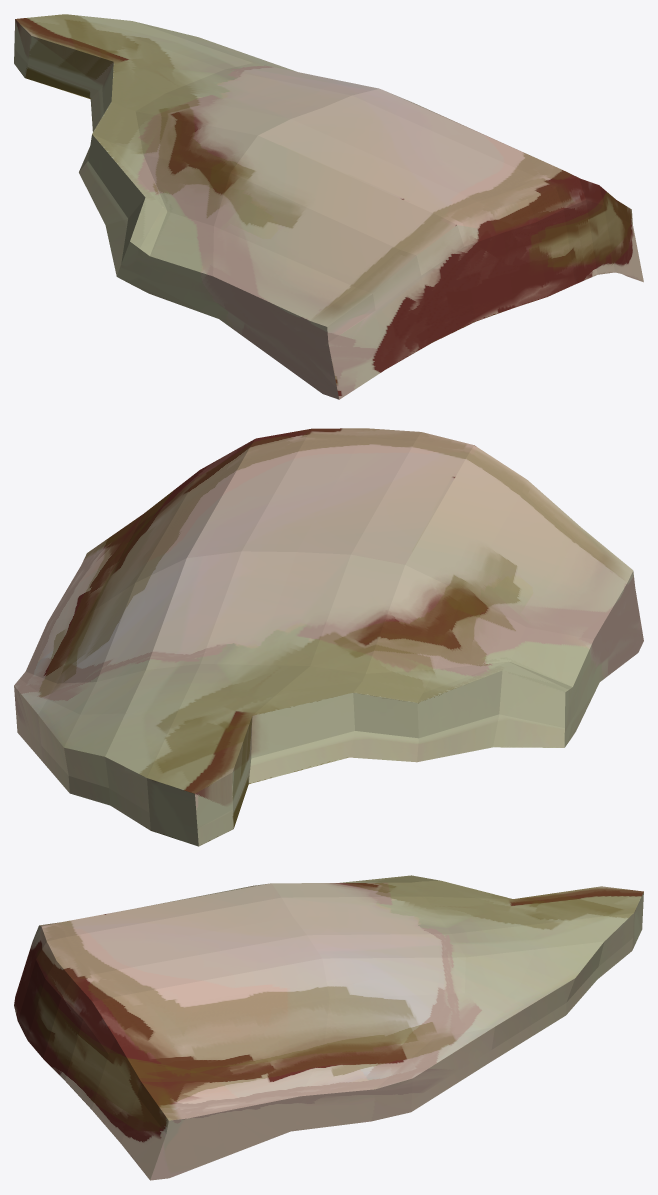
The model's file is toenail.fbx.
3 views of the same model, one above another, from view 1: azimuth 30°, elevation 25°; view 2: azimuth 150°, elevation 25°; view 3: azimuth 270°, elevation 25° (orthographic). The views are drawn at different scales.
Visible parts, largest first — view 1: Cube; view 2: Cube; view 3: Cube.
Boxes of the visible parts, <box> form: Cube: <box>14,14,643,399</box>; Cube: <box>14,428,643,846</box>; Cube: <box>14,875,643,1180</box>.
Size of the model in its own units: 1309 by 492 by 1749.
Materials: 1 (1 with a texture image).
